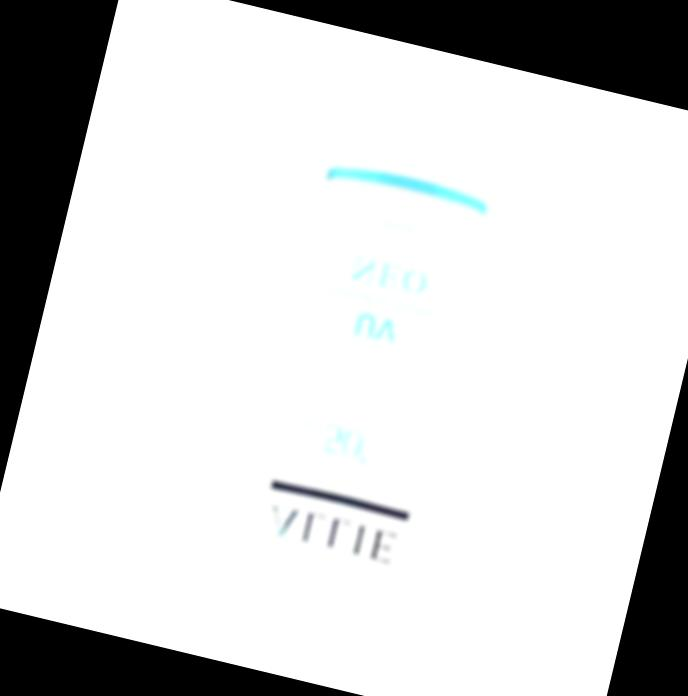cosmetic: (187, 64, 544, 670)
